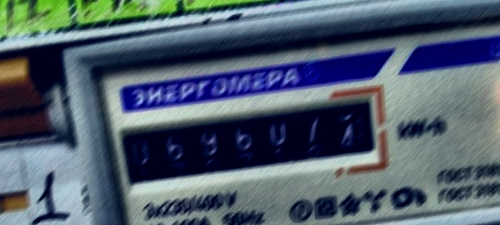0: (265, 115, 288, 148), (128, 137, 149, 167)
4: (336, 122, 355, 151)
6: (231, 122, 254, 153), (163, 131, 185, 161)
7: (301, 113, 322, 145)
9: (197, 128, 218, 158)
screen: (103, 78, 397, 203)
